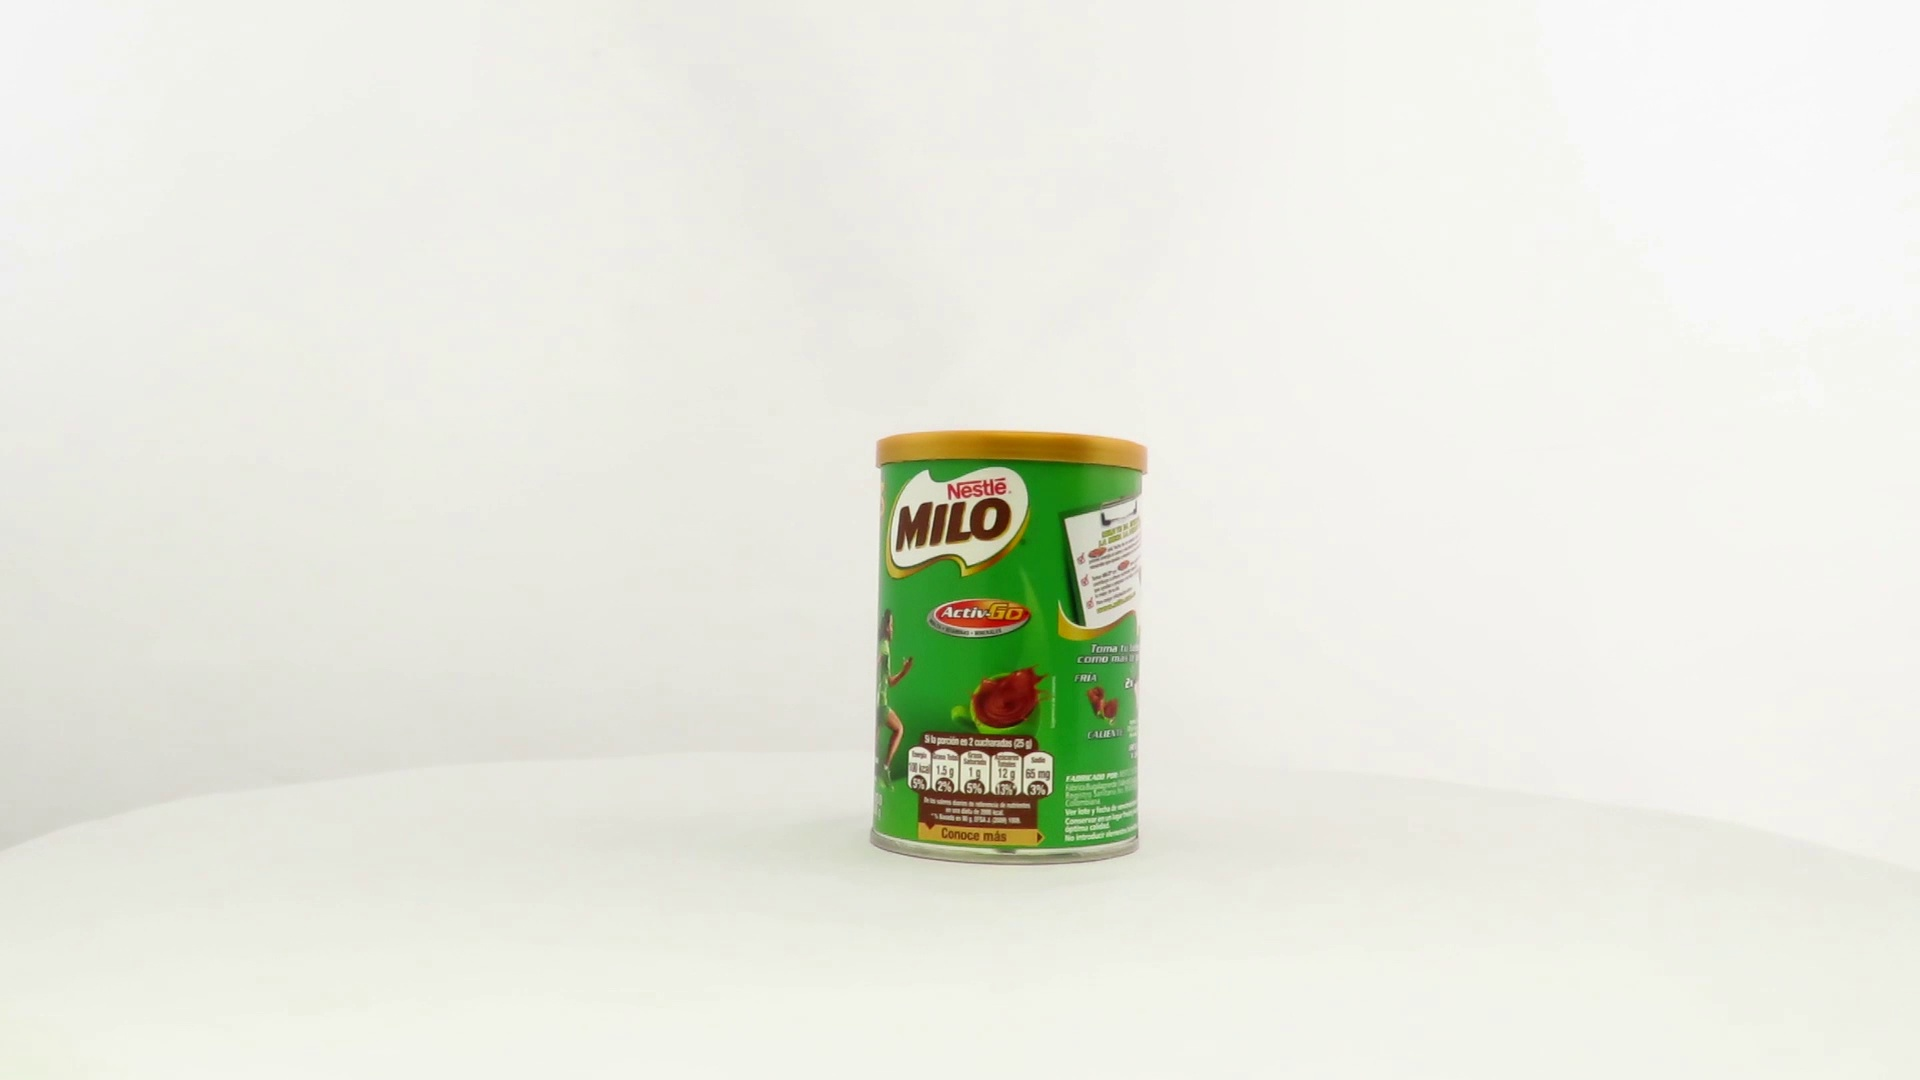COL0170203LAT20000: (864, 425, 1154, 872)
